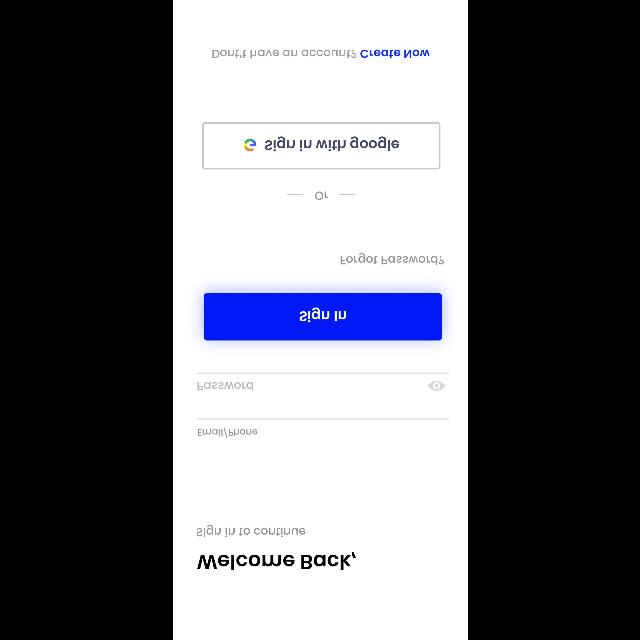icon: (428, 381, 444, 391)
input: (196, 418, 449, 438), (196, 372, 449, 392)
text: (197, 552, 356, 570), (211, 50, 429, 59), (196, 525, 304, 537), (340, 253, 444, 265), (198, 428, 256, 438), (198, 382, 252, 391), (314, 192, 328, 200)
textbutton: (202, 122, 440, 170), (203, 294, 442, 340)
